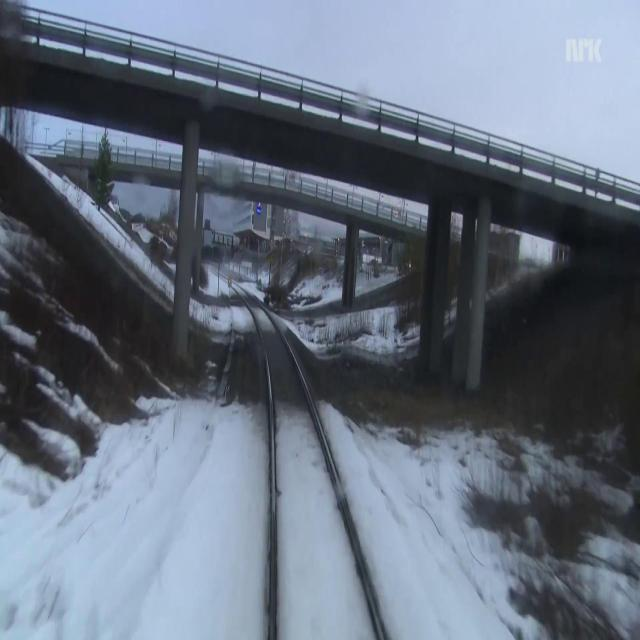rail-track: (231, 282, 383, 639)
